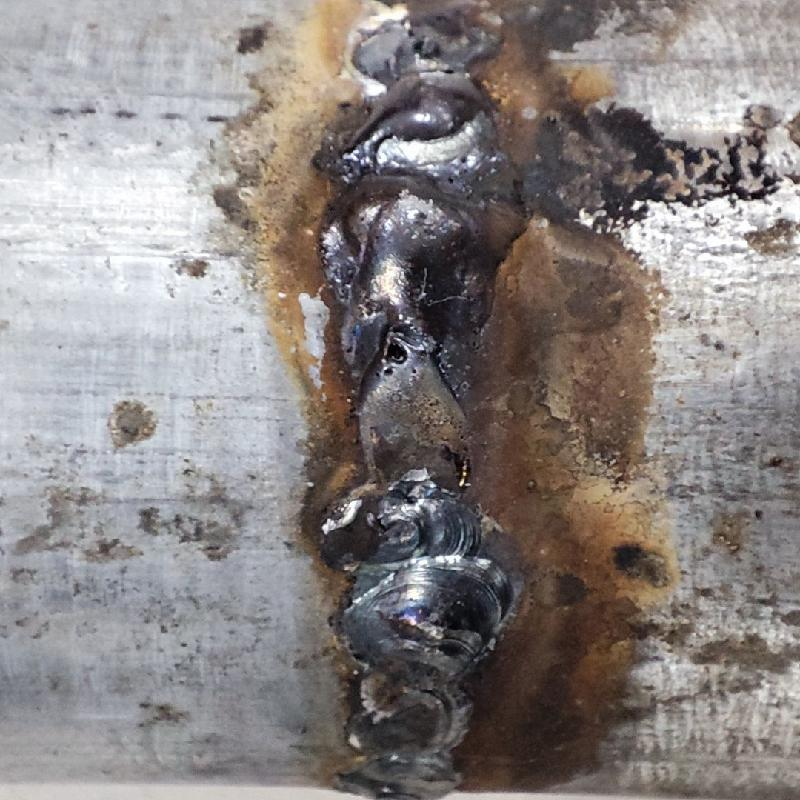Not_fully_soldered: (326, 332, 501, 553)
Surface_pores: (361, 321, 444, 386)
Weld: (311, 74, 523, 389)
